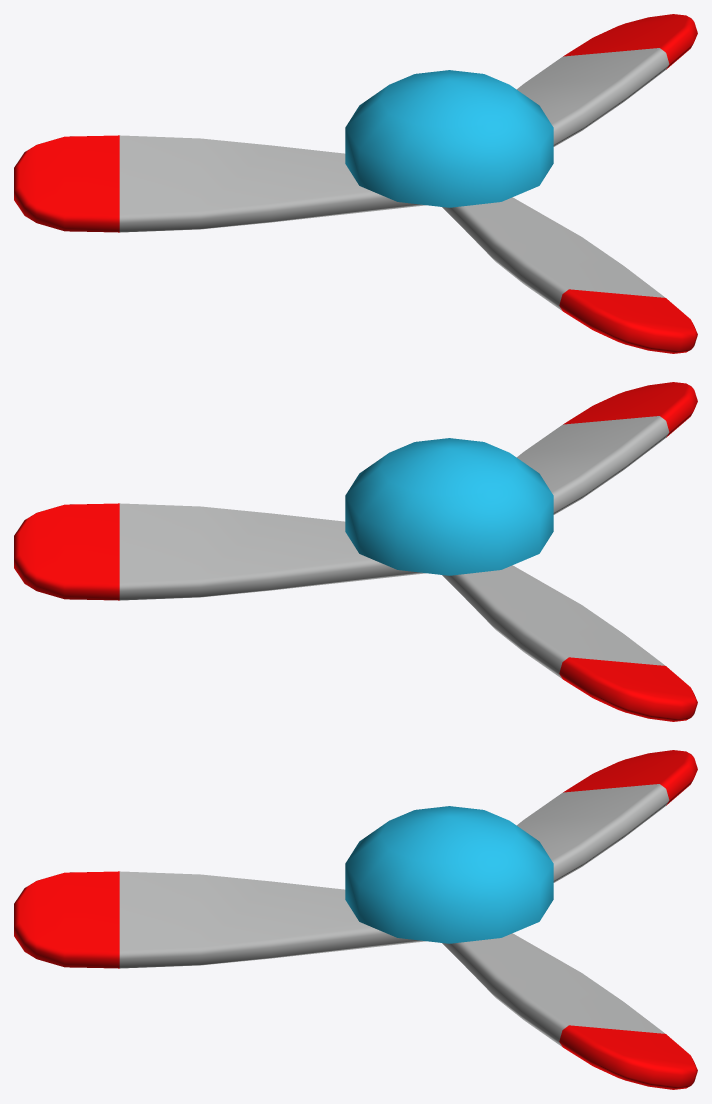
Rendered from drone_propeller_001.fbx.
The picture shows the model from 3 angles, top to bottom: view 1: azimuth 30°, elevation 25°; view 2: azimuth 150°, elevation 25°; view 3: azimuth 270°, elevation 25°; orthographic projection.
Parts seen in each view (by area): view 1: drone_propeller_001; view 2: drone_propeller_001; view 3: drone_propeller_001.
Part boxes in pixels (x1=…): drone_propeller_001: x1=14, y1=14, x2=697, y2=353; drone_propeller_001: x1=14, y1=382, x2=697, y2=721; drone_propeller_001: x1=14, y1=750, x2=697, y2=1089.
Bounding box in the file's own units: 249 × 220 × 46.12.
